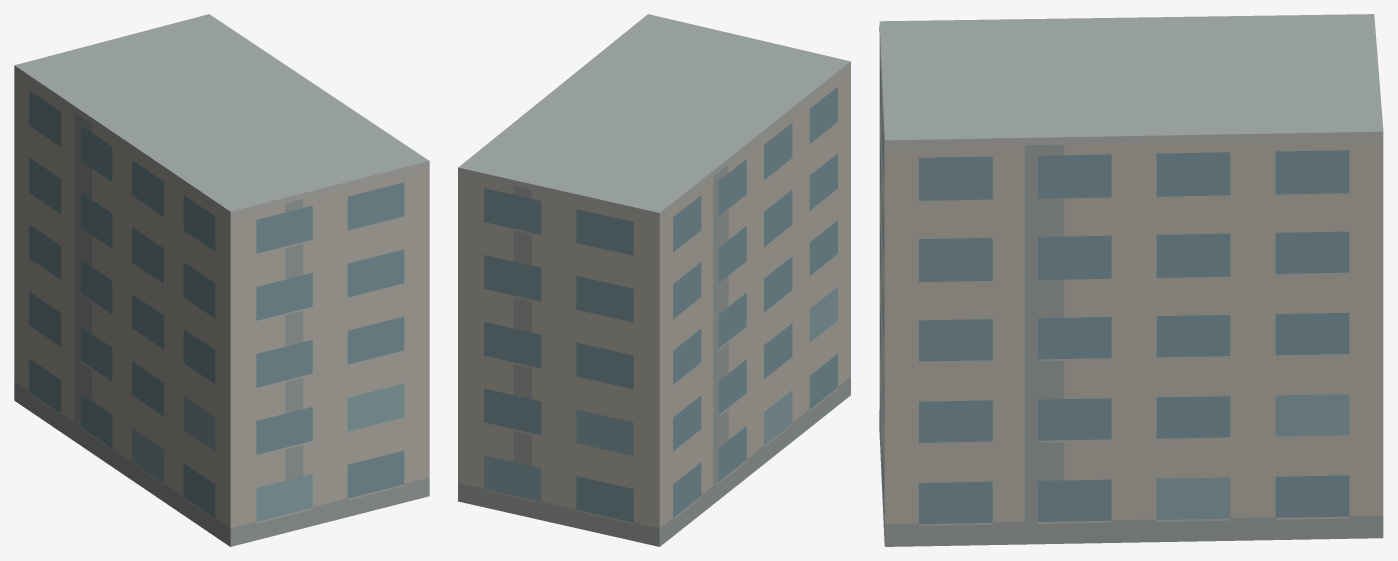
The model's file is survey-upis-32681771.glb.
3 views of the same model, side by side, from view 1: azimuth 30°, elevation 25°; view 2: azimuth 150°, elevation 25°; view 3: azimuth 270°, elevation 25° (orthographic). The views are drawn at different scales.
Visible parts, largest first — view 1: survey-upis-32681771.tmp; view 2: survey-upis-32681771.tmp; view 3: survey-upis-32681771.tmp.
Part boxes in pixels (x1,y1,x2,y2): survey-upis-32681771.tmp: (14, 14, 429, 546); survey-upis-32681771.tmp: (458, 14, 850, 546); survey-upis-32681771.tmp: (879, 14, 1383, 546).
Size of the model in its own units: 9.01 by 13.5 by 15.18.
